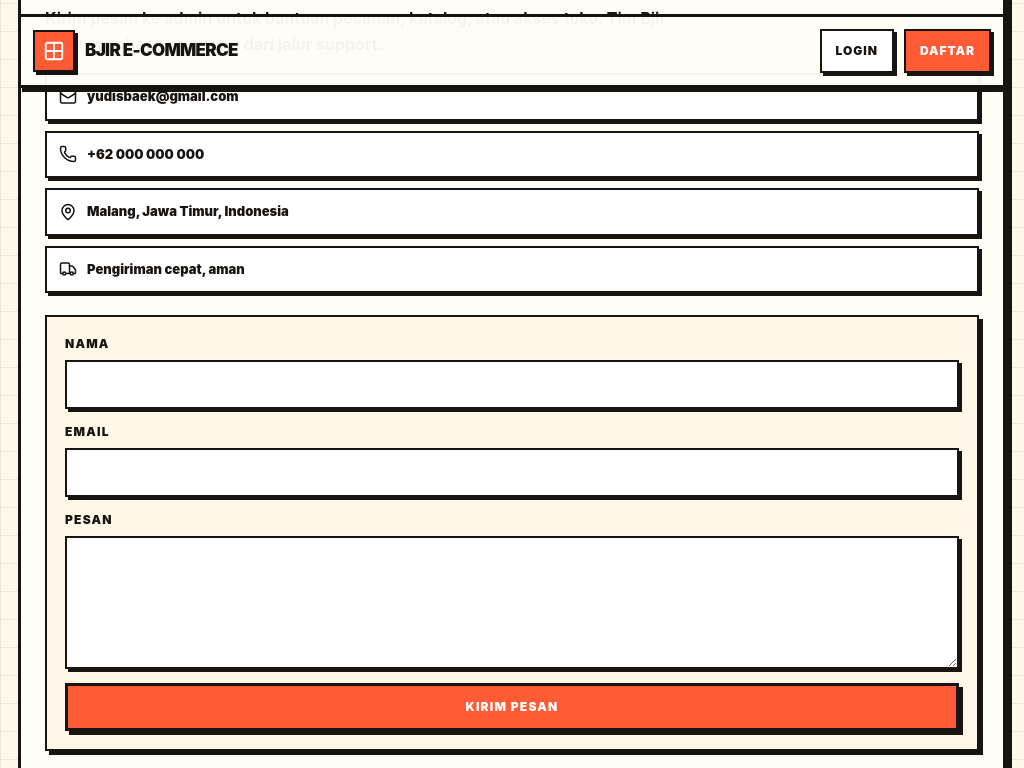
it: LandingPage › shows an error toast when contact form submit fails
(page scrolled)
In the field labelled "Nama": (512, 385) [65, 360, 959, 409], type "Bintang"
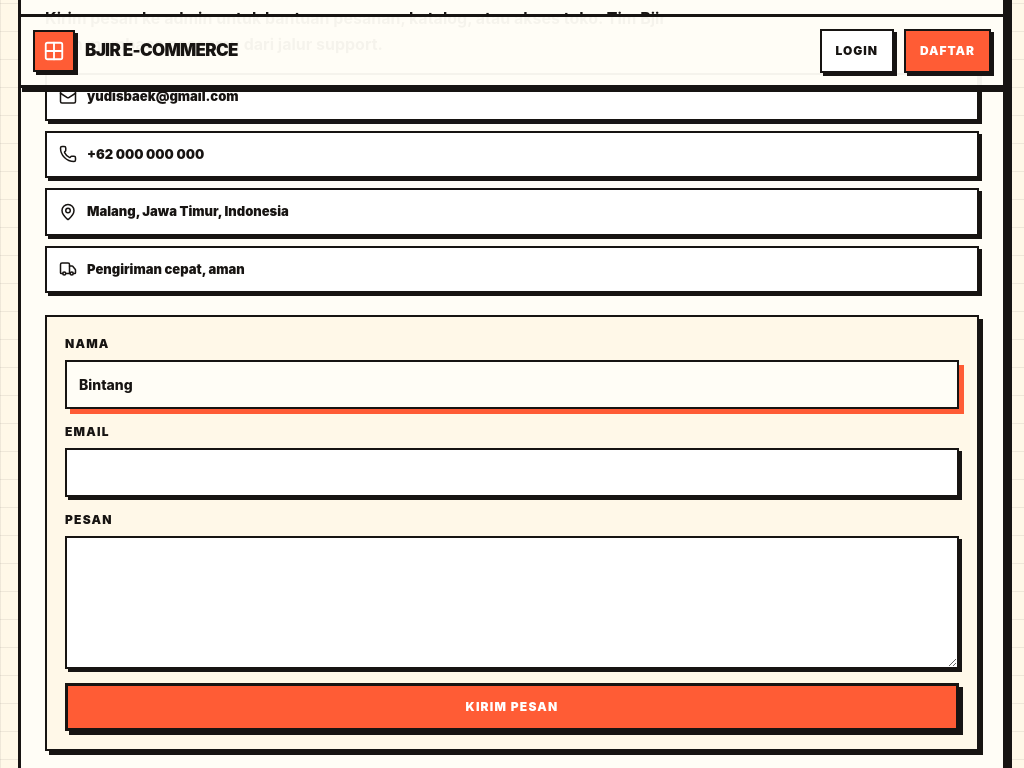
In the field labelled "Email": (512, 473) [65, 448, 959, 497], type "bintang@example.test"
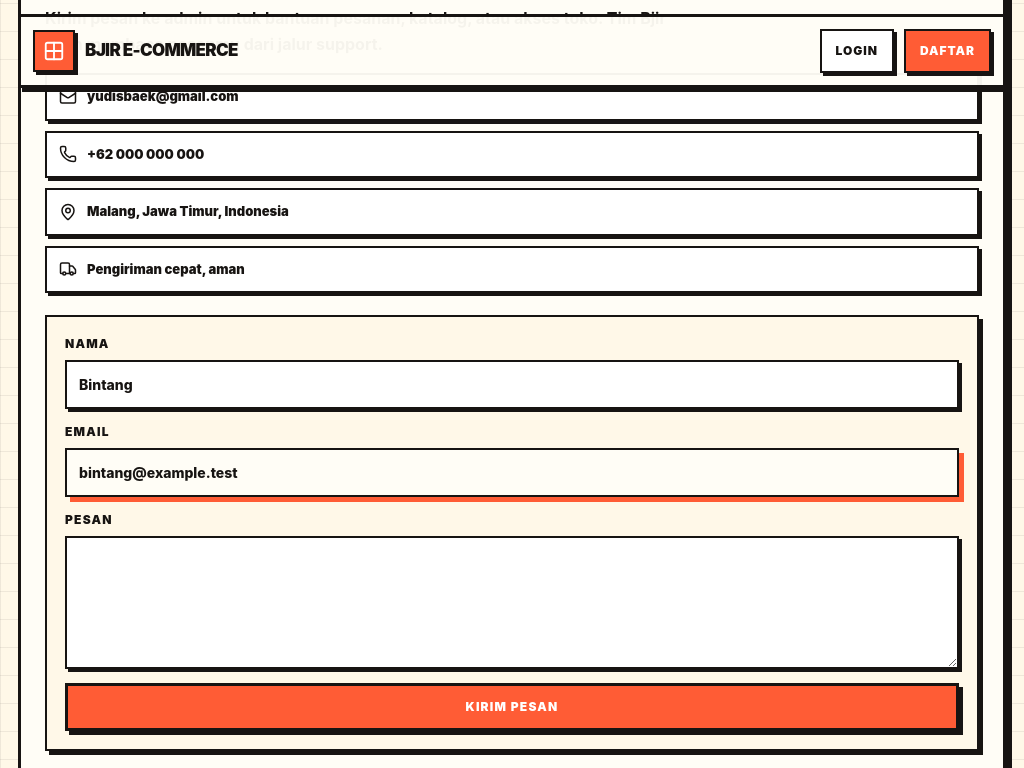
In the text box labelled "Pesan": (512, 603) [65, 536, 959, 669], type "Butuh bantuan."
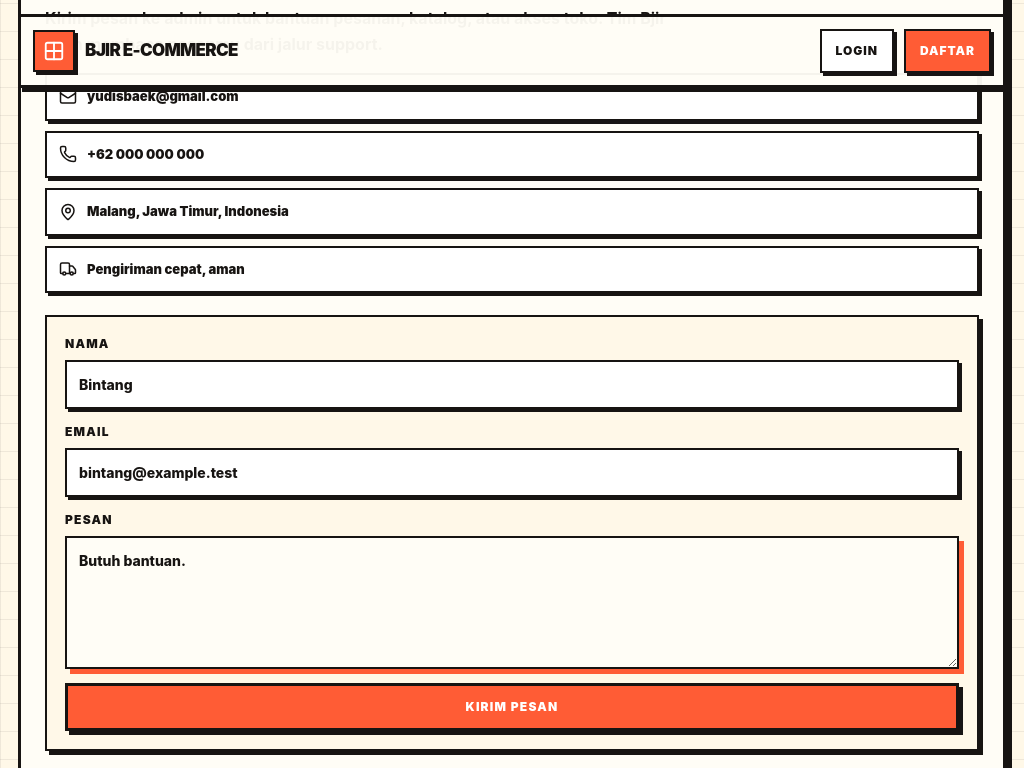
Click the button "Kirim Pesan": (512, 707) [65, 683, 959, 731]
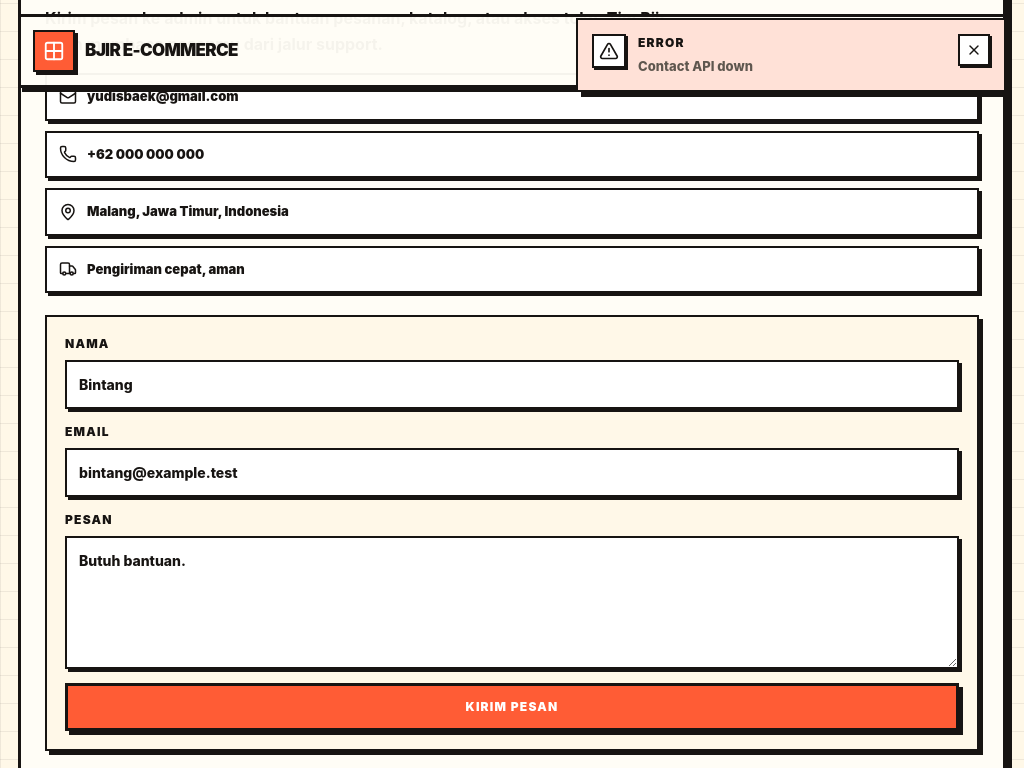
expect the text "Contact API down" is shown: met, box [638, 58, 753, 74]
